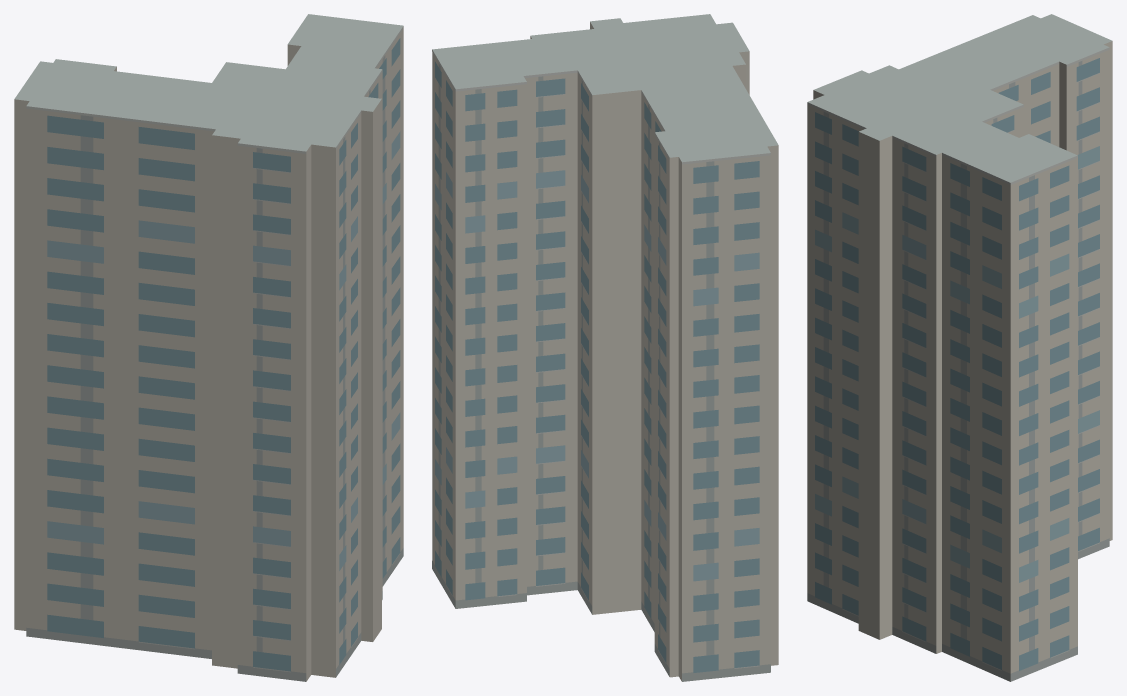
The model's file is residential-031166ef-3fb8-4fd6-a1b4-fd084fa587ce.glb.
The picture shows the model from 3 angles, left to right: view 1: azimuth 30°, elevation 25°; view 2: azimuth 150°, elevation 25°; view 3: azimuth 270°, elevation 25°; orthographic projection. The views are drawn at different scales.
Visible parts, largest first — view 1: residential-031166ef-3fb8-4fd6-a1b4-fd084fa587ce.tmp; view 2: residential-031166ef-3fb8-4fd6-a1b4-fd084fa587ce.tmp; view 3: residential-031166ef-3fb8-4fd6-a1b4-fd084fa587ce.tmp.
Part boxes in pixels (left/top/right/bottom): residential-031166ef-3fb8-4fd6-a1b4-fd084fa587ce.tmp: left=14, top=14, right=403, bottom=681; residential-031166ef-3fb8-4fd6-a1b4-fd084fa587ce.tmp: left=432, top=14, right=778, bottom=681; residential-031166ef-3fb8-4fd6-a1b4-fd084fa587ce.tmp: left=807, top=14, right=1112, bottom=681.
Size of the model in its own units: 39.18 by 54 by 29.95.
